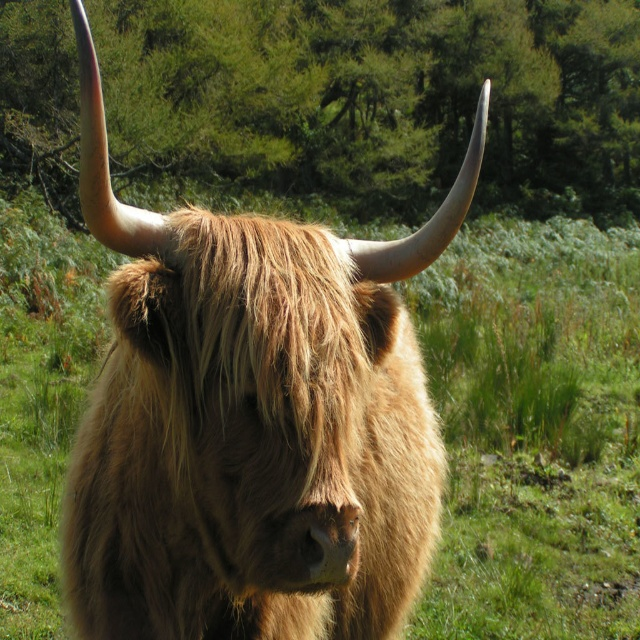Bull: (56, 0, 491, 640)
